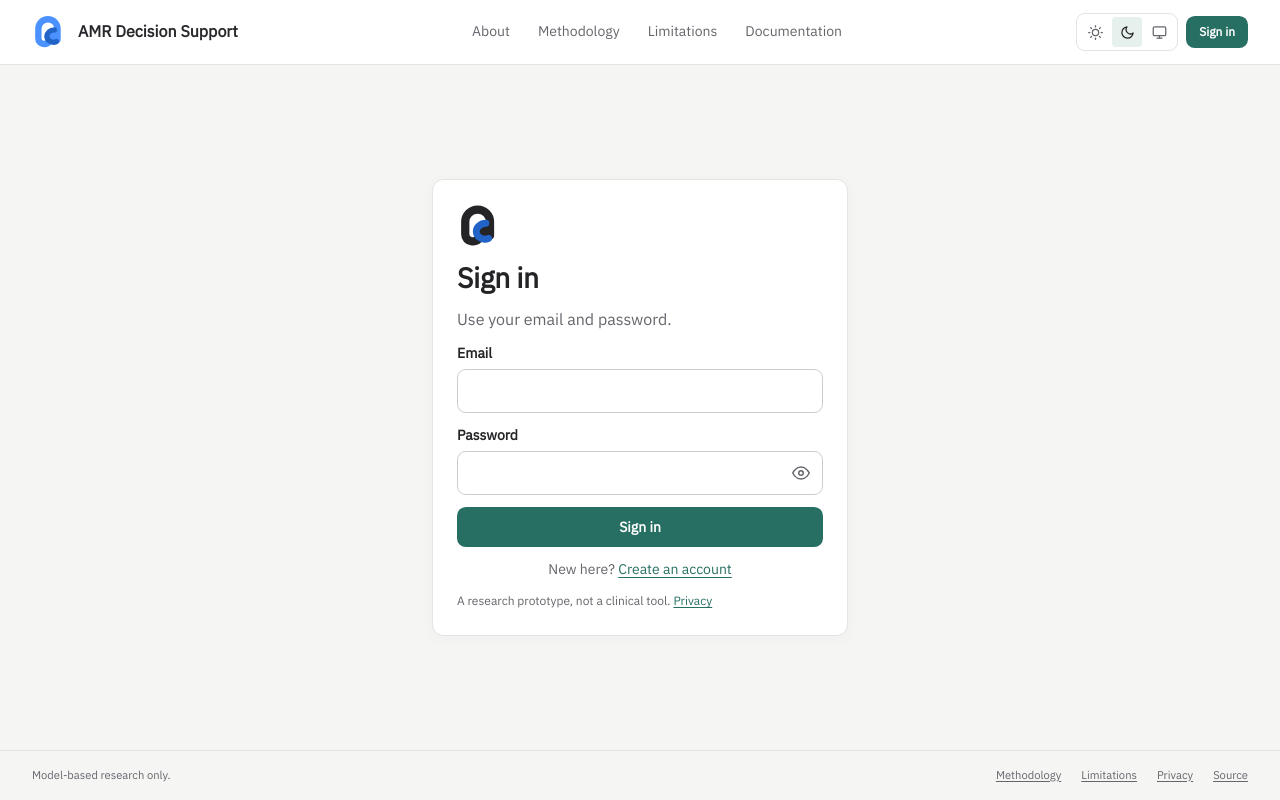
email and password authentication › tells a locked-out user to wait, using the server message
This screenshot has width=1280, height=800.
In the field labelled "Email": (640, 391) left=457, top=369, right=823, bottom=413, type "ada@example.org"
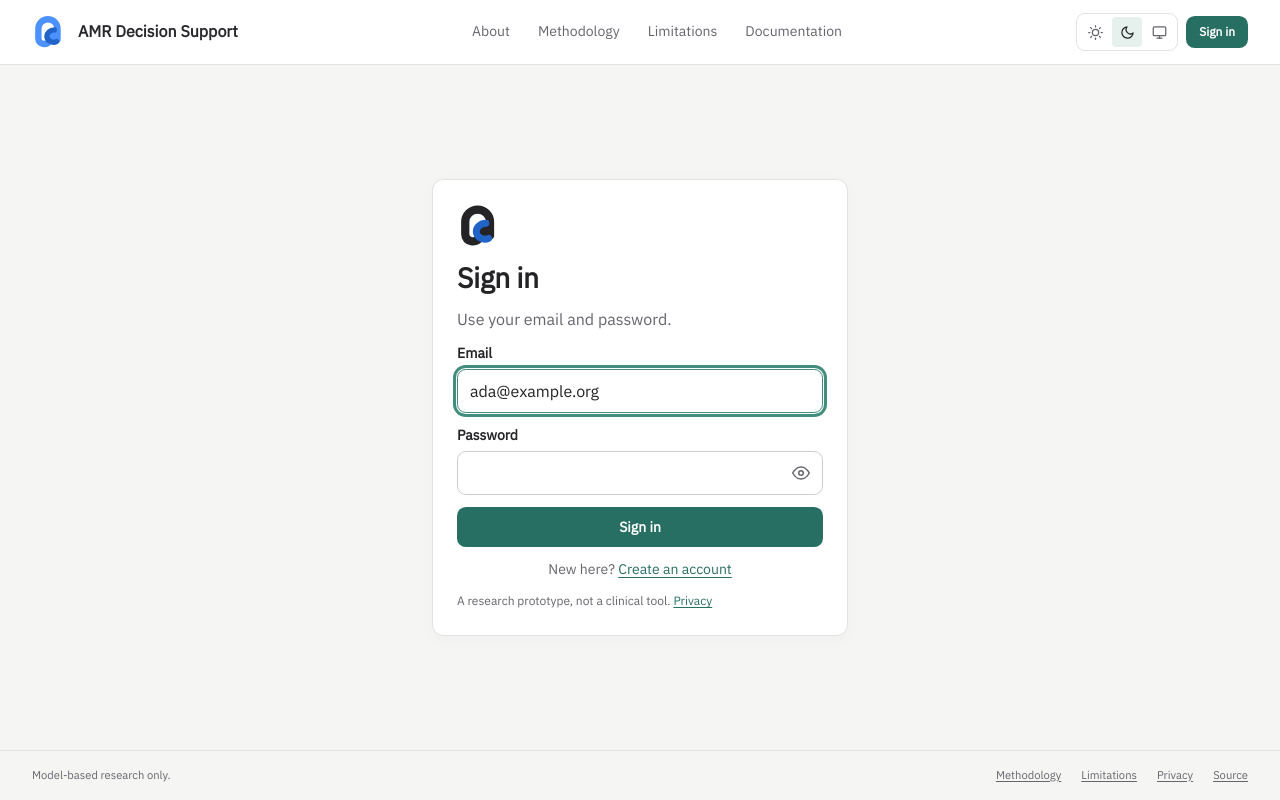
In the password field labelled "Password": (640, 473) left=457, top=451, right=823, bottom=495, type "a long enough password"
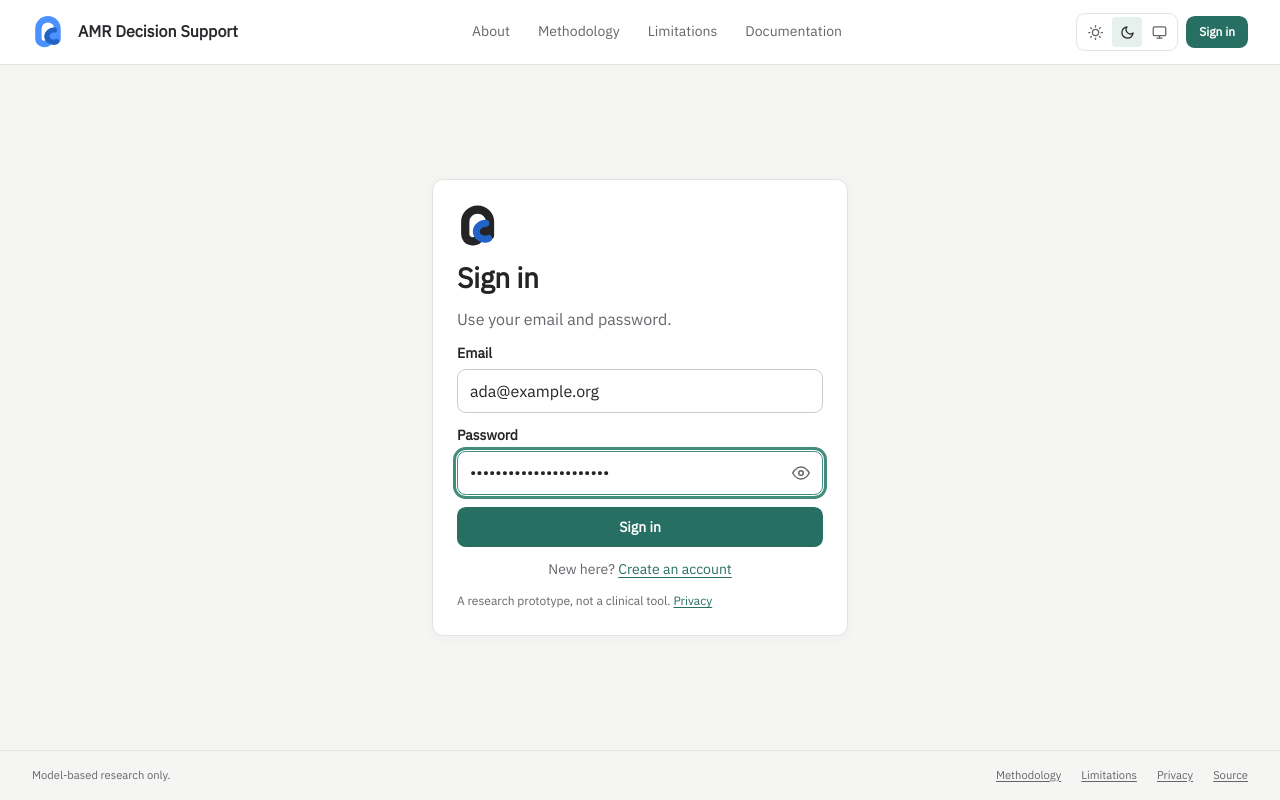
Click the button "Sign in": (640, 527) left=457, top=507, right=823, bottom=547
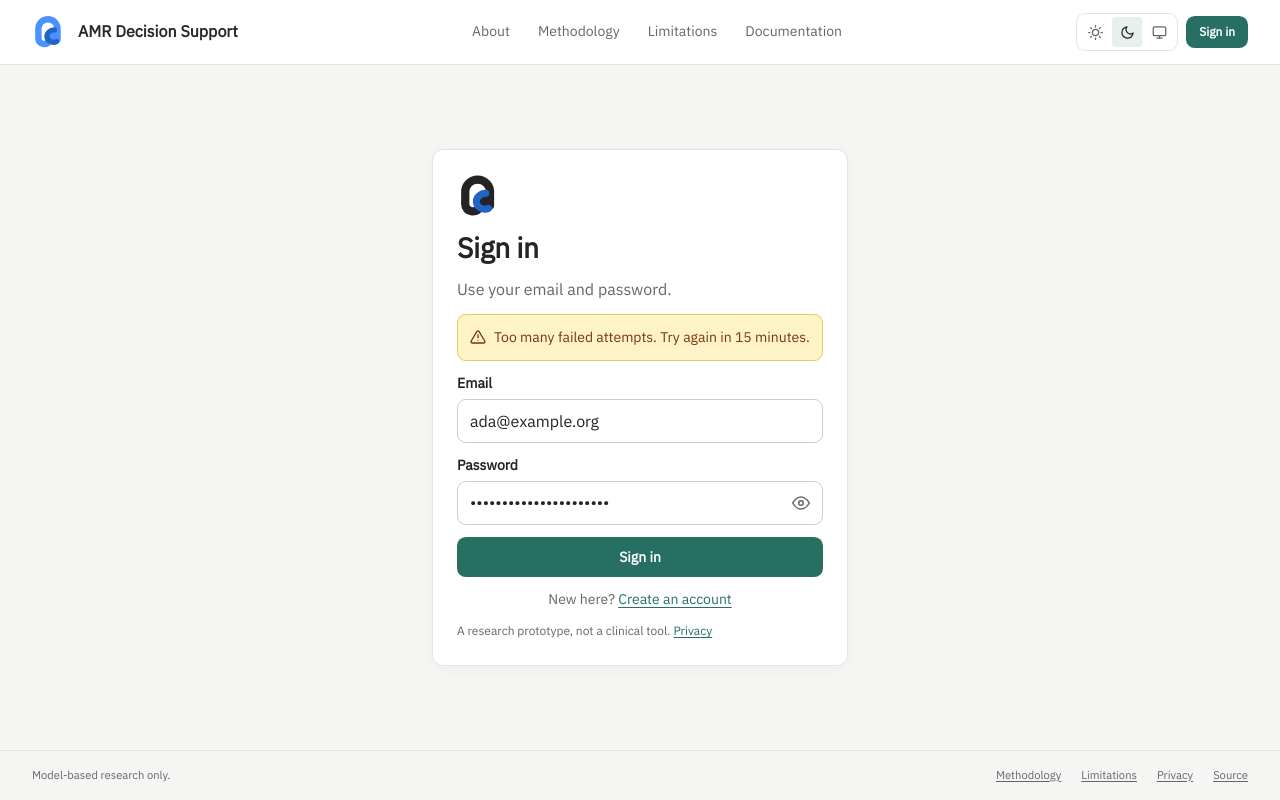
Check: the message shows "Try again in 15 minutes.", box left=494, top=328, right=810, bottom=346
